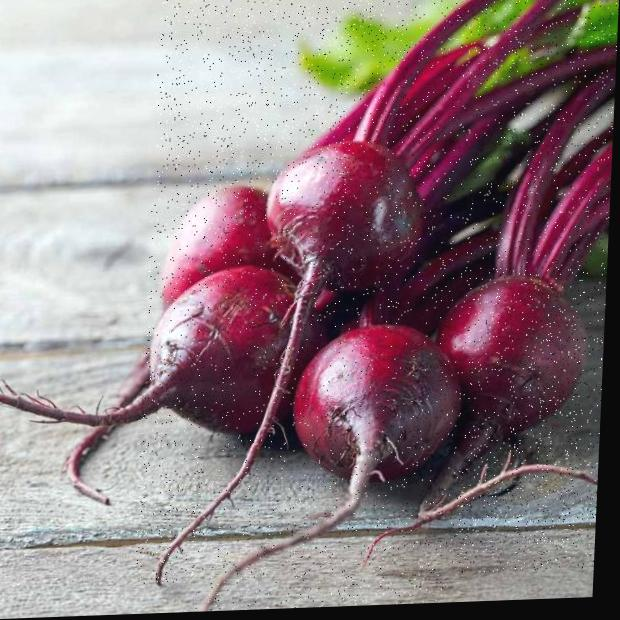Beetroot: (135, 0, 620, 584), (193, 310, 459, 612), (432, 268, 589, 537), (243, 126, 436, 303), (144, 269, 316, 452)
